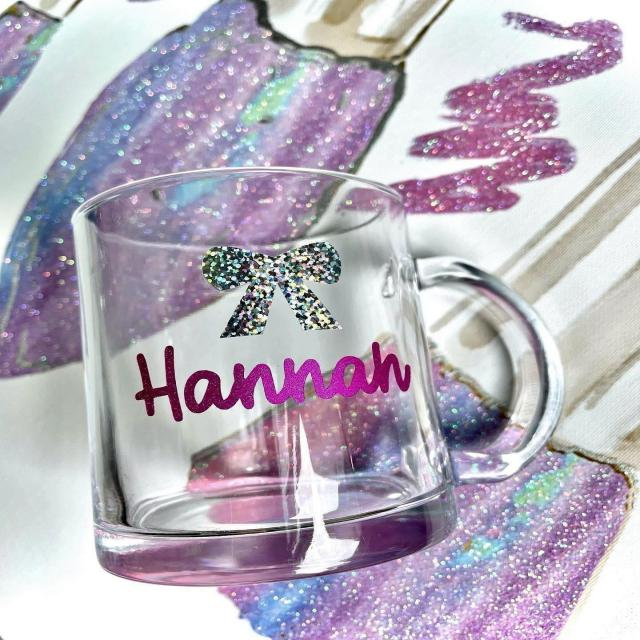glass-mug: (63, 160, 577, 590)
